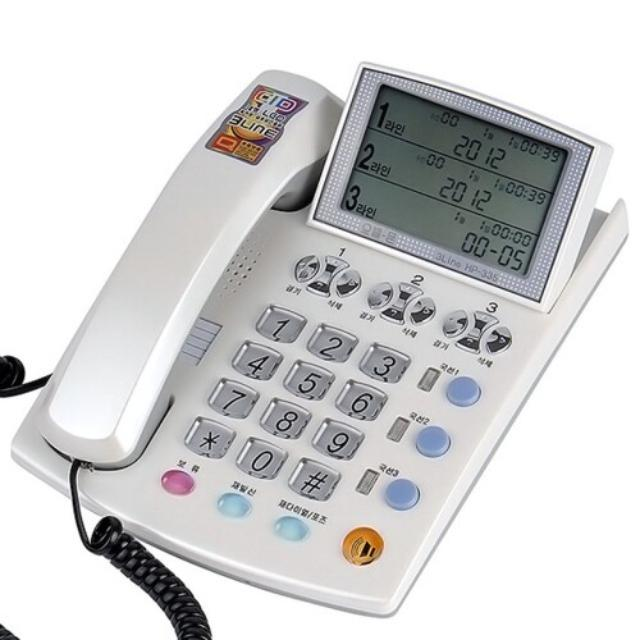Telephone-Set: (11, 60, 628, 618)
